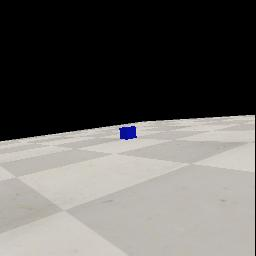box: (119, 126, 137, 140)
